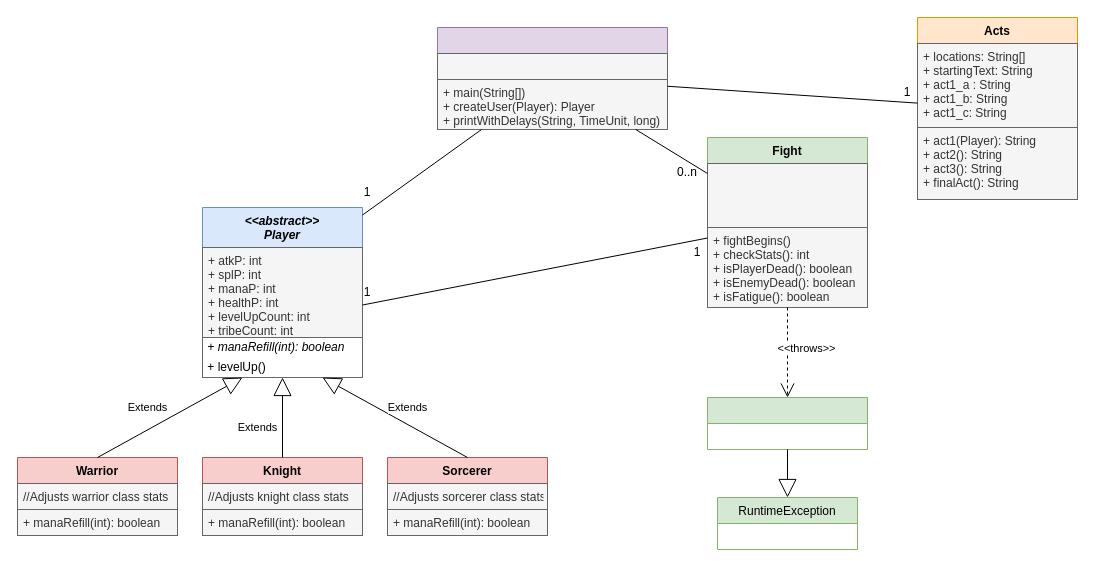
Some shapes in this 1095 by 567 pixel diagram are drawn without their labels. Here are the shapes that lost their labels. From the top down, the box of each, then its label:
(436, 26, 668, 130): TheCorrupted
(706, 162, 868, 228): - actionArr: String[] - respArr: String[] +player: Player - enemyHP: int
(706, 396, 868, 450): InvalidGameStateException
